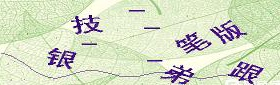chinese: (216, 21, 244, 48), (179, 33, 210, 55), (233, 62, 262, 85), (51, 43, 76, 67), (163, 64, 190, 85), (48, 47, 72, 69), (74, 16, 99, 34)
